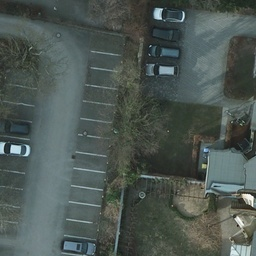car: (152, 3, 185, 20), (145, 64, 178, 80), (146, 43, 179, 59), (148, 23, 181, 39), (64, 239, 94, 256), (1, 118, 30, 135), (1, 141, 31, 156)
